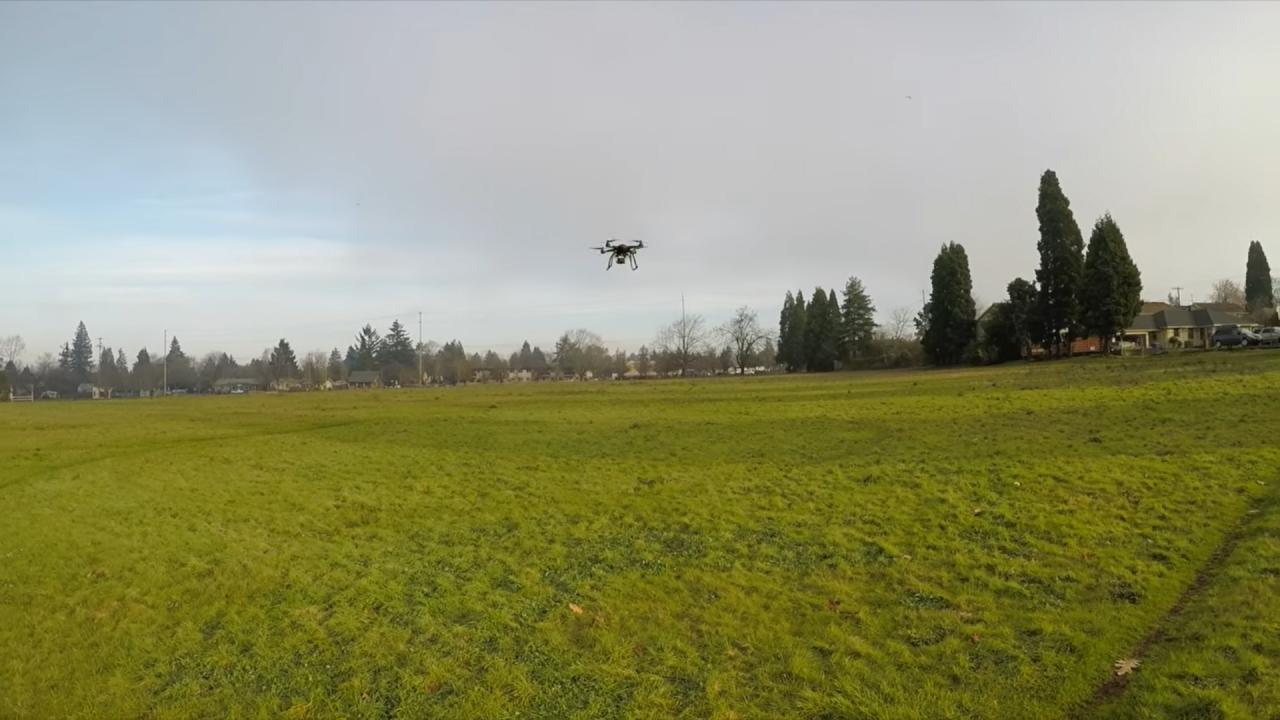Drone: (588, 228, 656, 281)
